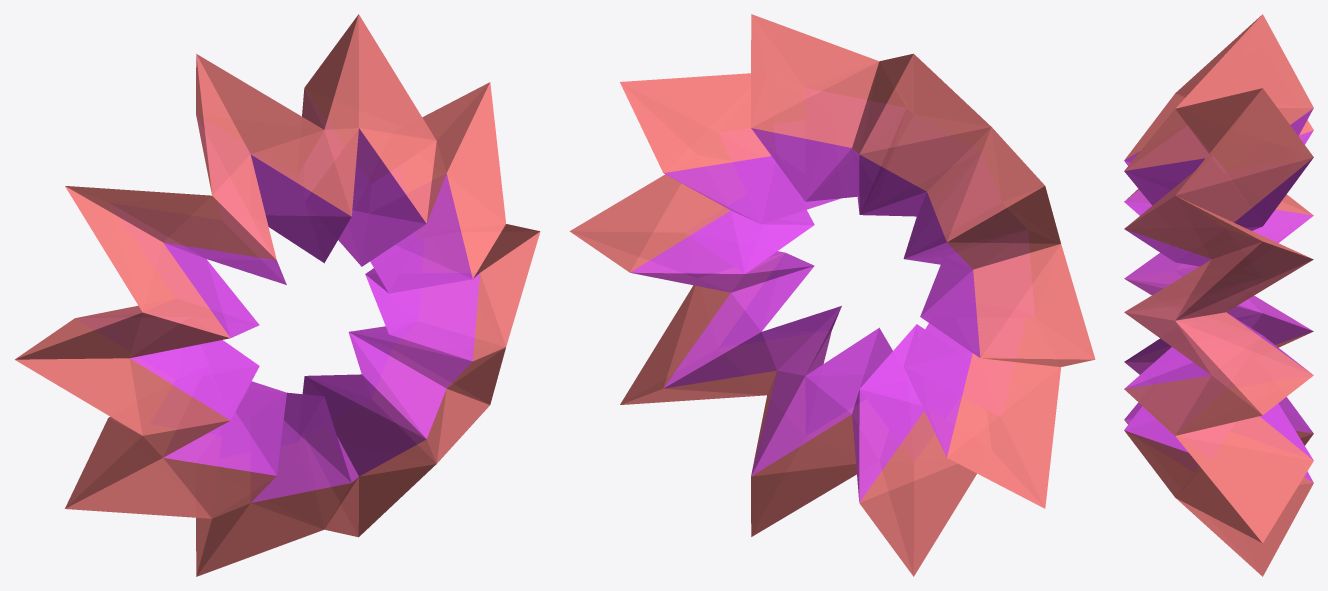
Rendered from Regular10TetragonalStarToroid1.obj.
3 views of the same model, side by side, from view 1: azimuth 30°, elevation 25°; view 2: azimuth 150°, elevation 25°; view 3: azimuth 270°, elevation 25° (orthographic). The views are drawn at different scales.
Size of the model in its own units: 3.88 by 3.69 by 1.3.
